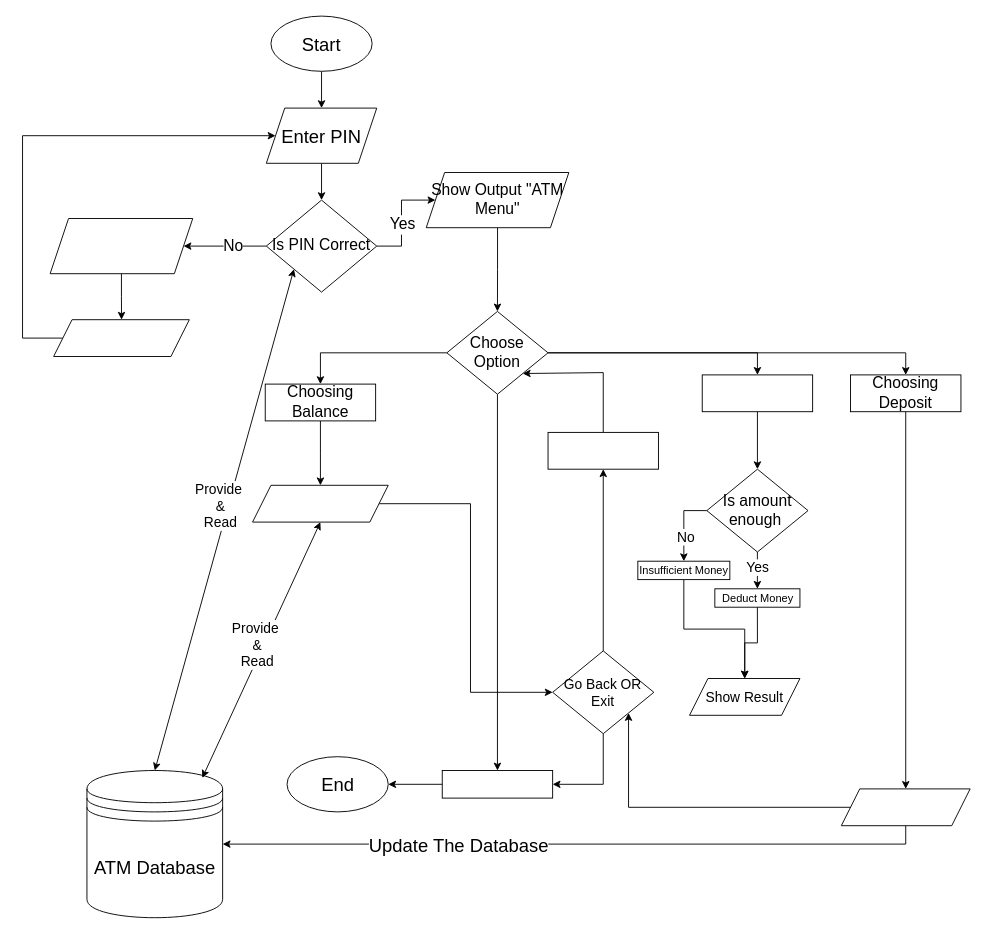
This 986x934 diagram has some shape labels left out. Here are the shapes that lost their labels. From the top down, the centre of each, then its label:
(121,246): Show Output "Incorrect PIN"
(121,337): Try Again
(757,393): Choosing Withdraw
(602,450): Choosing Go Back
(320,503): Show Balance
(497,784): Choosing Exit
(905,807): Enter Amount
